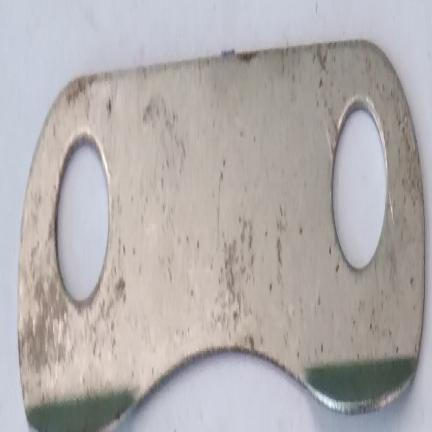besi_tidak_karat: (23, 64, 227, 430), (222, 46, 425, 407)
karat: (19, 272, 70, 372), (224, 220, 253, 324), (64, 75, 101, 105)
